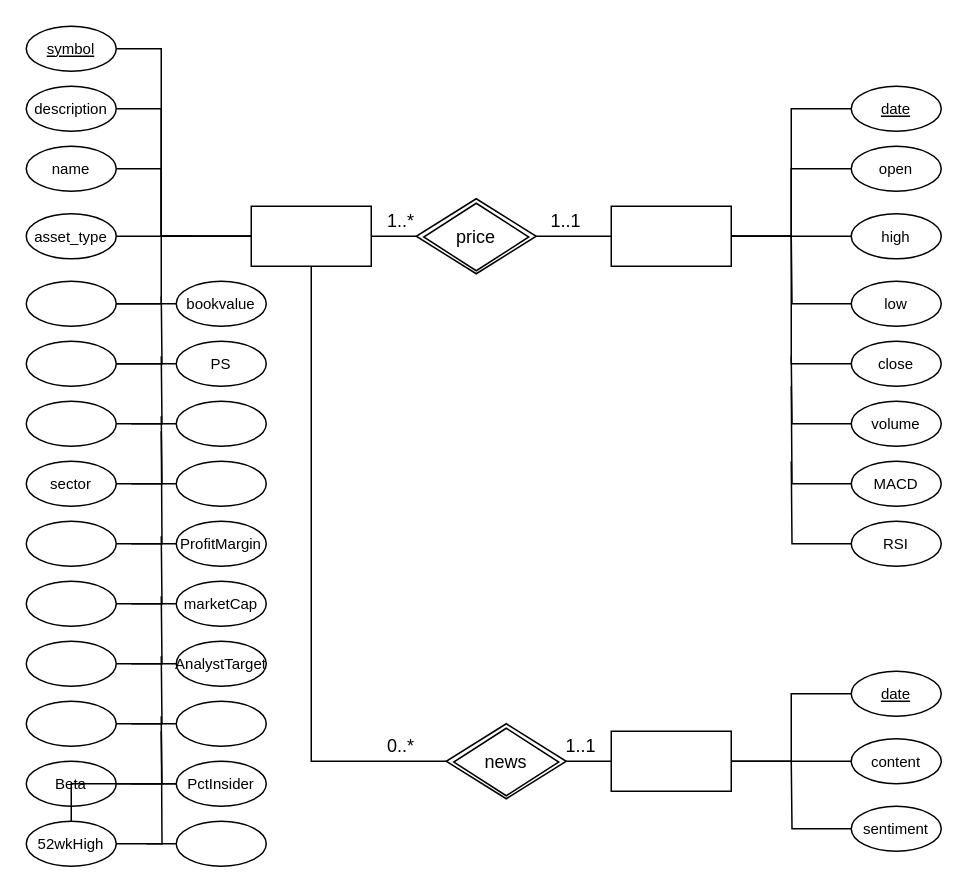
Image size: 968x893. Some labels were removed from this diagram. Each missing label, with the centre of its shape:
52wkLow: the point at 220,843
country: the point at 70,423
currency: the point at 70,363
exchange: the point at 70,303
forwardPE: the point at 70,663
fundamentals: the point at 310,235
industry: the point at 70,543
PB: the point at 220,423
PctInstitution: the point at 220,723
PEG: the point at 70,723
ShortRatio: the point at 220,483
stock_news: the point at 670,760
stock_price: the point at 670,235
trailingPE: the point at 70,603
